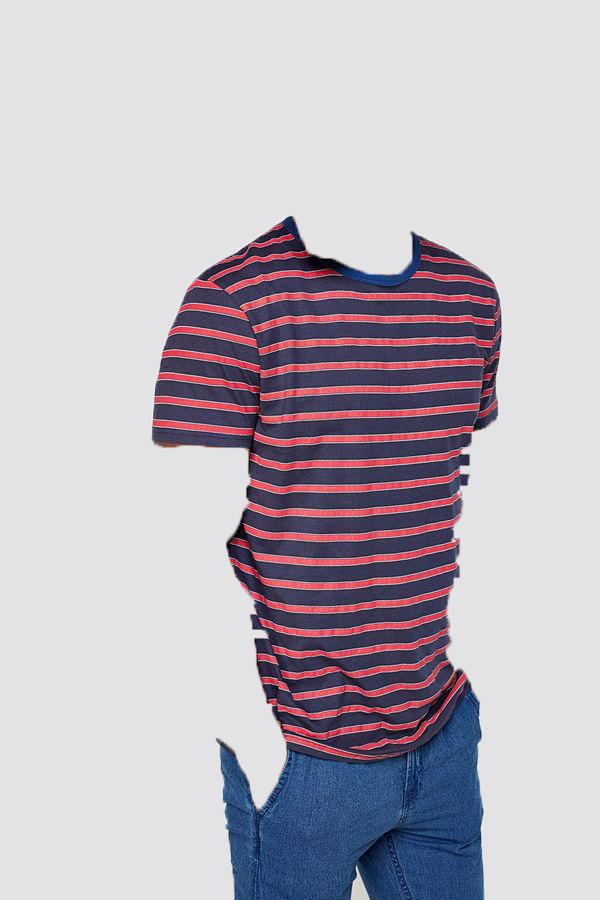teeshirt: (146, 210, 520, 759)
